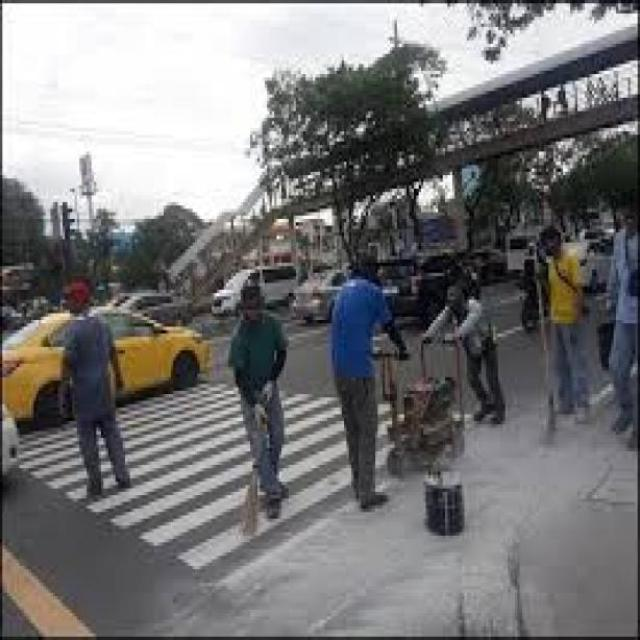pedestrian lane: (17, 383, 396, 568)
